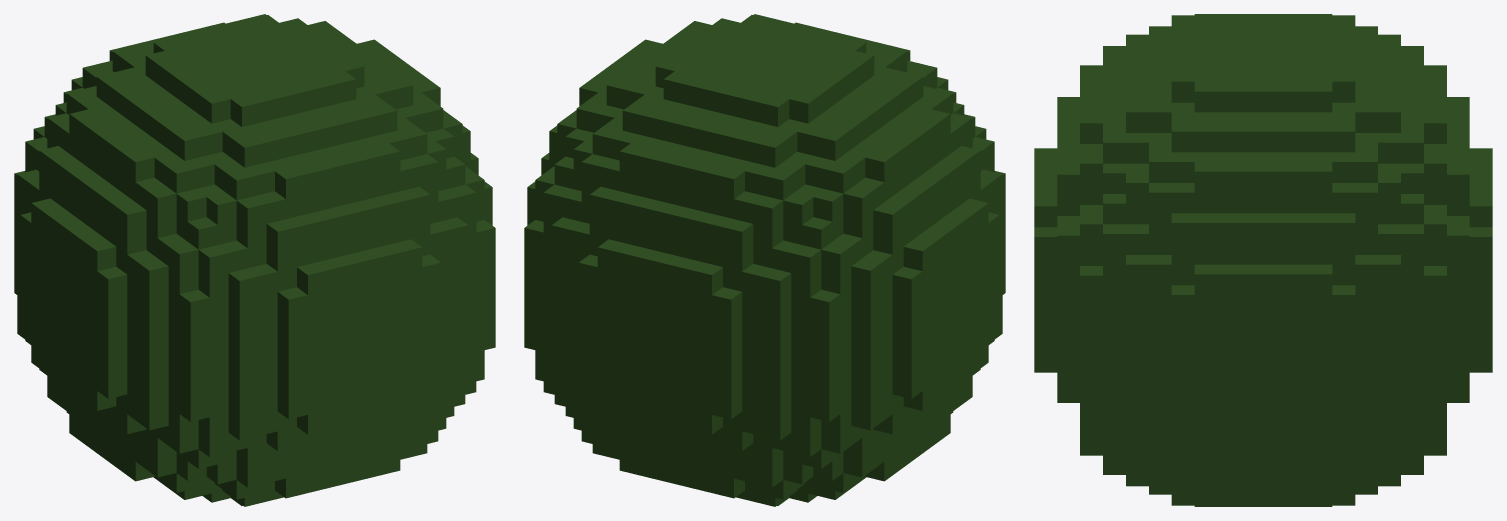
Rendered from Korean_plant_03.FBX.
The picture shows the model from 3 angles, left to right: view 1: azimuth 30°, elevation 25°; view 2: azimuth 150°, elevation 25°; view 3: azimuth 270°, elevation 25°; orthographic projection. The views are drawn at different scales.
Visible parts, largest first — view 1: Voxel_Korean_traditional village-2; view 2: Voxel_Korean_traditional village-2; view 3: Voxel_Korean_traditional village-2.
Boxes of the visible parts, x1=… form: Voxel_Korean_traditional village-2: x1=14, y1=14, x2=495, y2=506; Voxel_Korean_traditional village-2: x1=524, y1=14, x2=1005, y2=506; Voxel_Korean_traditional village-2: x1=1034, y1=14, x2=1492, y2=506.
Bounding box in the file's own units: 20 × 20 × 20.
Materials: 1 (1 with a texture image).
